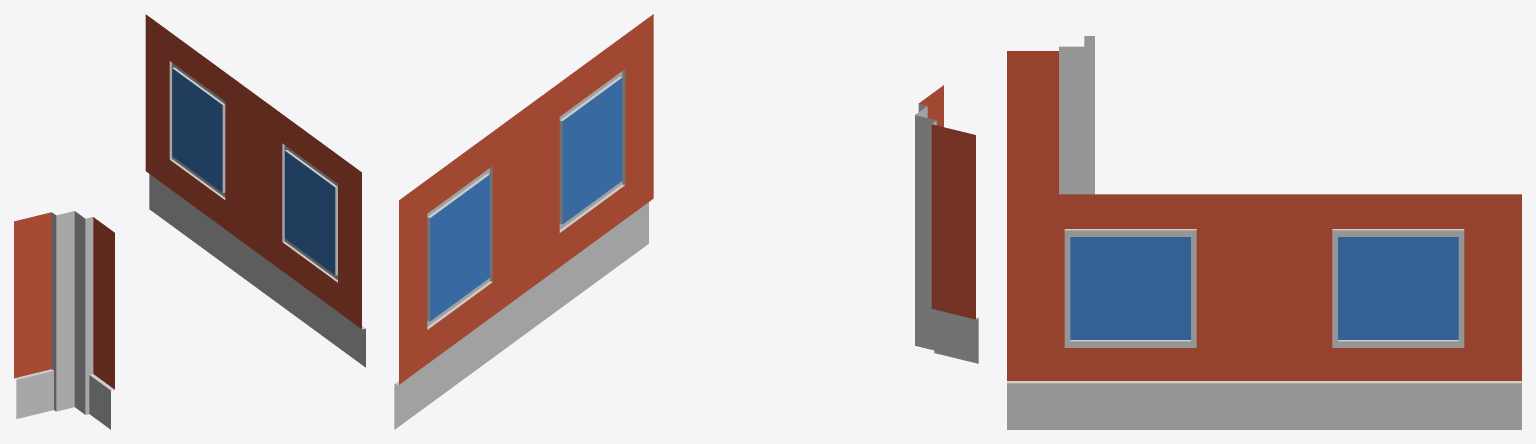
3 renders of one model, left to right at view 1: azimuth 30°, elevation 25°; view 2: azimuth 150°, elevation 25°; view 3: azimuth 270°, elevation 25°, orthographic. The views are drawn at different scales.
Parts seen in each view (by area): view 1: 05a_Base; view 2: 05a_Base; view 3: 05a_Base.
Boxes of the visible parts, x1=… form: 05a_Base: x1=14, y1=14, x2=365, y2=429; 05a_Base: x1=394, y1=14, x2=978, y2=429; 05a_Base: x1=1007, y1=36, x2=1521, y2=429.
Bounding box in the file's own units: 41.99 × 25 × 50.
